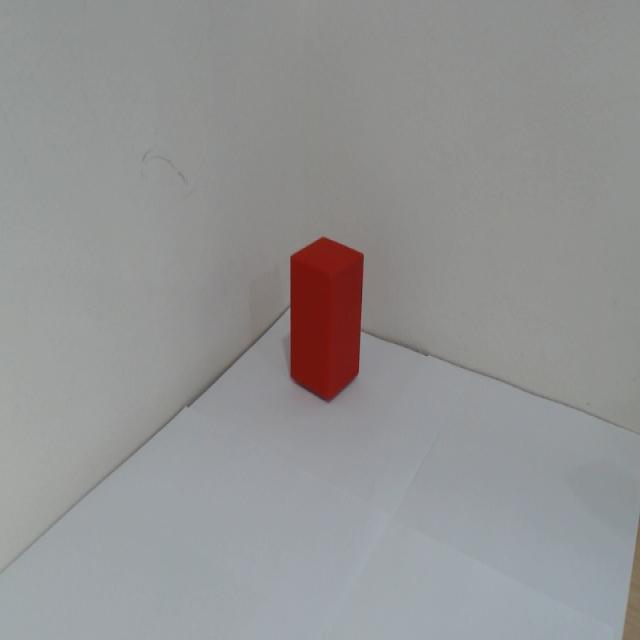cube: (284, 233, 366, 406)
